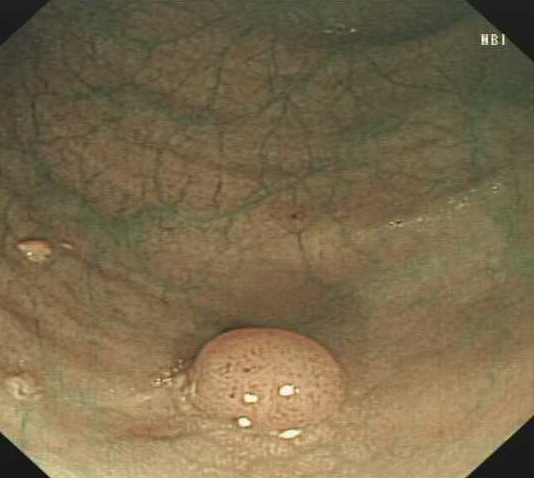adenoma: (183, 324, 350, 433)
